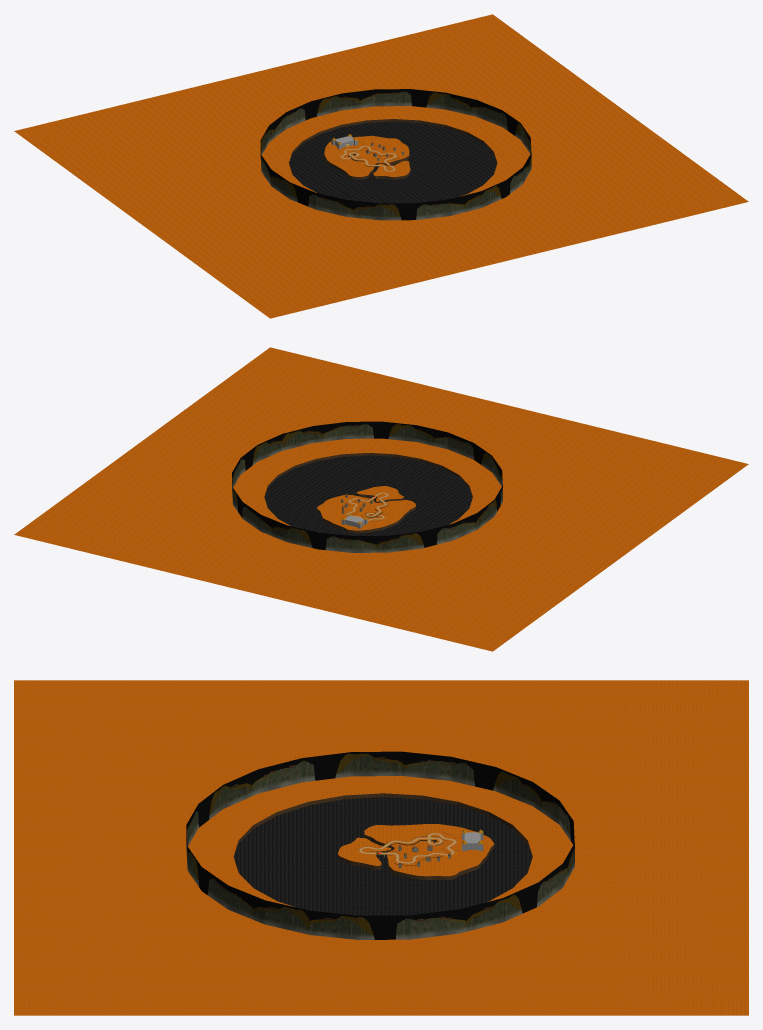
The picture shows the model from 3 angles, top to bottom: view 1: azimuth 30°, elevation 25°; view 2: azimuth 150°, elevation 25°; view 3: azimuth 270°, elevation 25°; orthographic projection. The views are drawn at different scales.
Parts seen in each view (by area): view 1: Wuthering_Castle_Canyon_SKP__Leaves, Wuthering_Castle_Canyon_SKP__ef_wave, Wuthering_Castle_Canyon_SKP__Mountains, Wuthering_Castle_Canyon_SKP__Rock; view 2: Wuthering_Castle_Canyon_SKP__Leaves, Wuthering_Castle_Canyon_SKP__ef_wave, Wuthering_Castle_Canyon_SKP__Mountains, Wuthering_Castle_Canyon_SKP__Rock; view 3: Wuthering_Castle_Canyon_SKP__Leaves, Wuthering_Castle_Canyon_SKP__ef_wave, Wuthering_Castle_Canyon_SKP__Mountains, Wuthering_Castle_Canyon_SKP__Rock, Wuthering_Castle_Canyon_SKP__Road.
Part boxes in pixels (x1=…): Wuthering_Castle_Canyon_SKP__Leaves: x1=14, y1=14, x2=748, y2=318; Wuthering_Castle_Canyon_SKP__ef_wave: x1=289, y1=121, x2=496, y2=203; Wuthering_Castle_Canyon_SKP__Mountains: x1=260, y1=89, x2=531, y2=220; Wuthering_Castle_Canyon_SKP__Rock: x1=289, y1=119, x2=497, y2=179; Wuthering_Castle_Canyon_SKP__Leaves: x1=14, y1=347, x2=748, y2=651; Wuthering_Castle_Canyon_SKP__ef_wave: x1=264, y1=455, x2=472, y2=535; Wuthering_Castle_Canyon_SKP__Mountains: x1=232, y1=421, x2=502, y2=552; Wuthering_Castle_Canyon_SKP__Rock: x1=264, y1=453, x2=472, y2=533; Wuthering_Castle_Canyon_SKP__Leaves: x1=14, y1=680, x2=748, y2=1015; Wuthering_Castle_Canyon_SKP__ef_wave: x1=234, y1=797, x2=532, y2=915; Wuthering_Castle_Canyon_SKP__Mountains: x1=186, y1=751, x2=574, y2=939; Wuthering_Castle_Canyon_SKP__Rock: x1=233, y1=793, x2=532, y2=879; Wuthering_Castle_Canyon_SKP__Road: x1=358, y1=833, x2=456, y2=863.
Size of the model in its own units: 690245 by 26968 by 639749.
20 materials, 19 textured.
